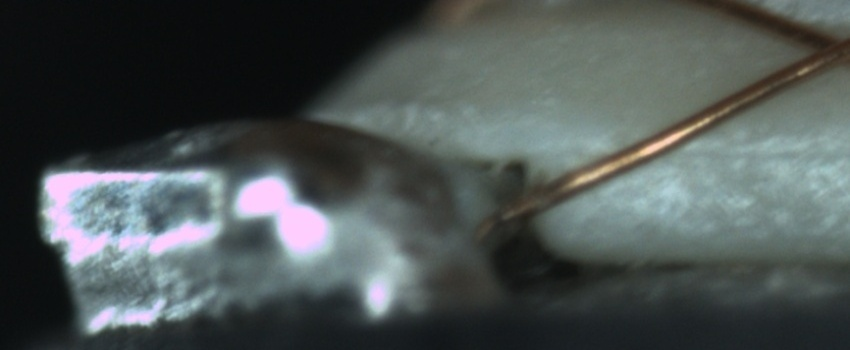CL: (779, 13, 847, 78)
DL: (626, 122, 849, 182)
